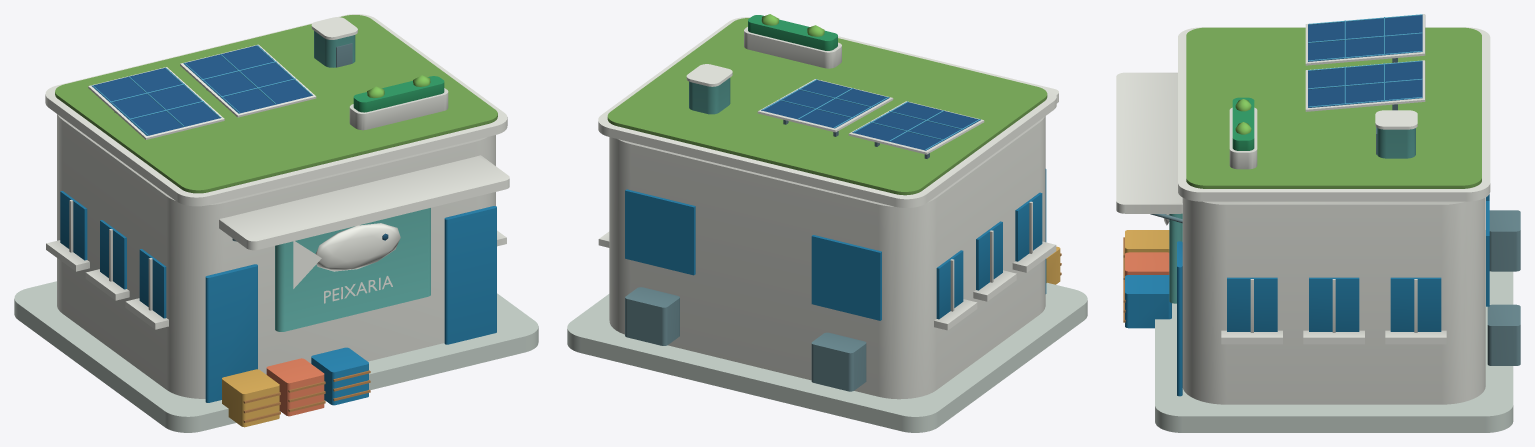
File: fish-market.glb
3 views of the same model, side by side, from view 1: azimuth 30°, elevation 25°; view 2: azimuth 150°, elevation 25°; view 3: azimuth 270°, elevation 25° (orthographic). The views are drawn at different scales.
Parts seen in each view (by area): view 1: fish market rounded shell, green roof, market door, quay warehouse footing, blue fish sign, photovoltaic cells, fish shipping crate, fish shipping crate.001, planter foliage, crate board seam, solar cell division; view 2: fish market rounded shell, green roof, quay warehouse footing, market door, photovoltaic cells, roof access hatch, planter foliage, blue fish sign, solar cell division; view 3: fish market rounded shell, green roof, quay warehouse footing, market door, photovoltaic cells, roof access hatch, blue fish sign, solar cell division, fish shipping crate, fish shipping crate.001, planter foliage.
Boxes of the visible parts, bbox=[...] form: fish market rounded shell: bbox=[45, 14, 509, 398]; green roof: bbox=[55, 15, 497, 193]; market door: bbox=[60, 191, 496, 405]; quay warehouse footing: bbox=[14, 281, 538, 432]; blue fish sign: bbox=[275, 31, 430, 331]; photovoltaic cells: bbox=[91, 45, 312, 135]; fish shipping crate: bbox=[222, 369, 279, 427]; fish shipping crate.001: bbox=[266, 358, 324, 416]; planter foliage: bbox=[353, 76, 444, 112]; crate board seam: bbox=[243, 370, 370, 422]; solar cell division: bbox=[92, 45, 312, 135]; fish market rounded shell: bbox=[598, 17, 1058, 399]; green roof: bbox=[607, 18, 1047, 195]; quay warehouse footing: bbox=[567, 282, 1087, 432]; market door: bbox=[625, 169, 1046, 320]; photovoltaic cells: bbox=[761, 80, 980, 150]; roof access hatch: bbox=[625, 120, 929, 391]; planter foliage: bbox=[748, 15, 837, 50]; blue fish sign: bbox=[689, 78, 730, 114]; solar cell division: bbox=[761, 79, 980, 150]; fish market rounded shell: bbox=[1116, 14, 1490, 404]; green roof: bbox=[1186, 27, 1481, 188]; quay warehouse footing: bbox=[1155, 230, 1513, 432]; market door: bbox=[1125, 194, 1489, 396]; photovoltaic cells: bbox=[1308, 14, 1422, 107]; roof access hatch: bbox=[1150, 58, 1520, 365]; blue fish sign: bbox=[1169, 128, 1415, 303]; solar cell division: bbox=[1308, 14, 1422, 107]; fish shipping crate: bbox=[1125, 230, 1169, 253]; fish shipping crate.001: bbox=[1125, 252, 1169, 275]; planter foliage: bbox=[1232, 97, 1254, 150].
Size of the model in its own units: 4.8 by 3.23 by 4.4.
